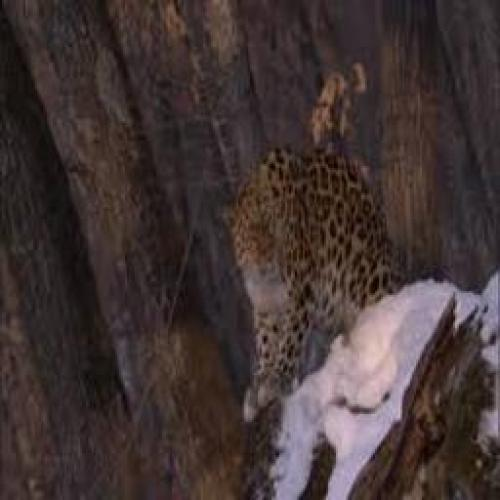amur_leopard-endangered: (228, 147, 393, 398)
